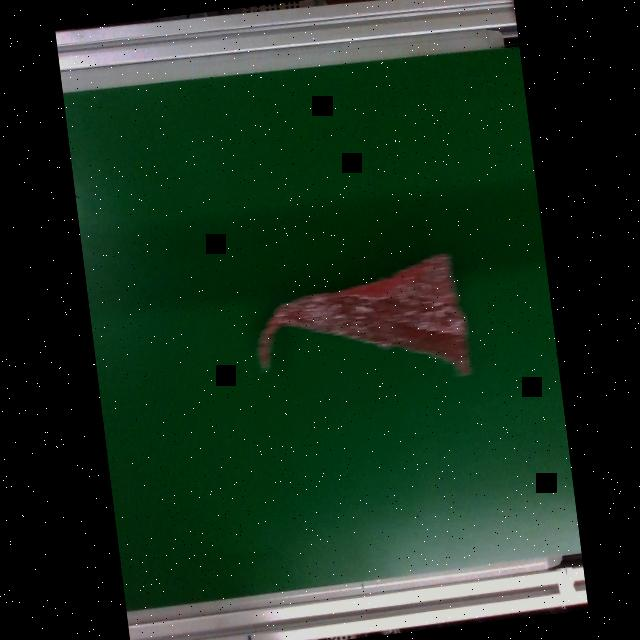scrap_plastic: (242, 250, 472, 402)
